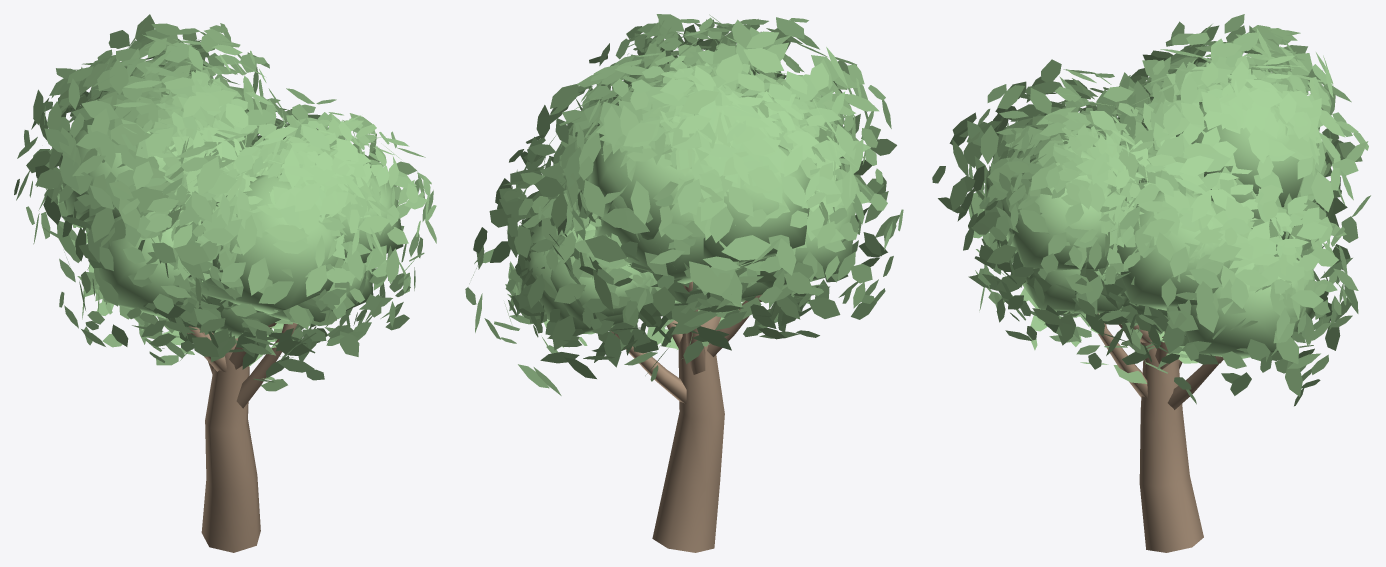
The model's file is tree_round_D.glb.
3 views of the same model, side by side, from view 1: azimuth 30°, elevation 25°; view 2: azimuth 150°, elevation 25°; view 3: azimuth 270°, elevation 25° (orthographic). The views are drawn at different scales.
Parts seen in each view (by area): view 1: tree_round_D; view 2: tree_round_D; view 3: tree_round_D.
Boxes of the visible parts, x1,y1,x2,y2 form: tree_round_D: (14,14,436,552); tree_round_D: (465,14,903,552); tree_round_D: (932,14,1370,552).
Size of the model in its own units: 1.3 by 1.76 by 1.43.
